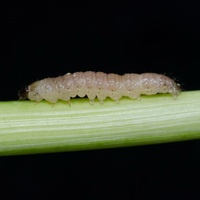insect: (28, 71, 179, 102)
